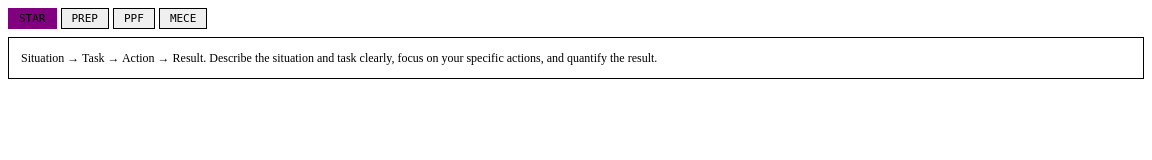
FrameworkHints › renders STAR content by default; clicking PREP shows PREP content
Expected: the panel shows "Situation", [21,51,657,65]
Step 1. Click the tab "PREP" → (85, 18), box [60,8,109,29]
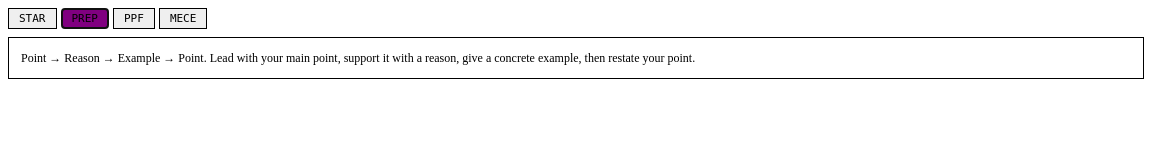
Result: the panel shows "Point" at [21,51,695,65]
